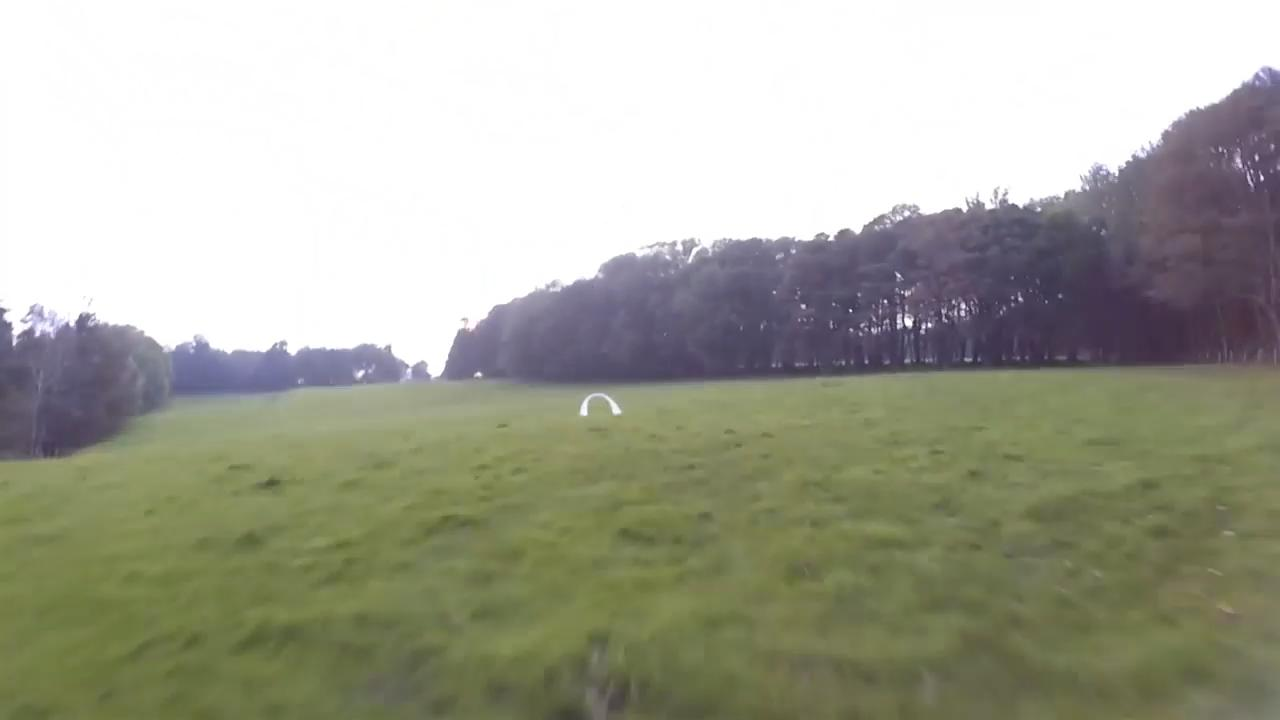gate: (578, 392, 622, 419)
